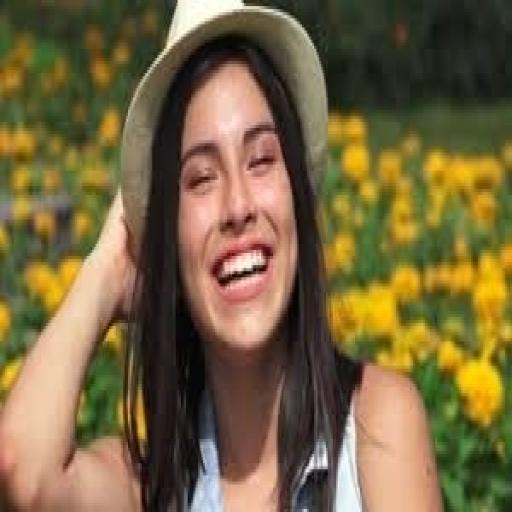laughing: (2, 3, 447, 509)
